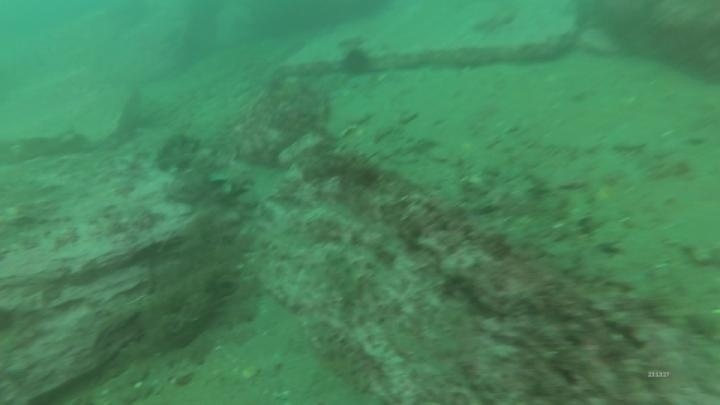echinus: (338, 45, 376, 80)
holothurian: (302, 315, 384, 401), (319, 242, 373, 303)
